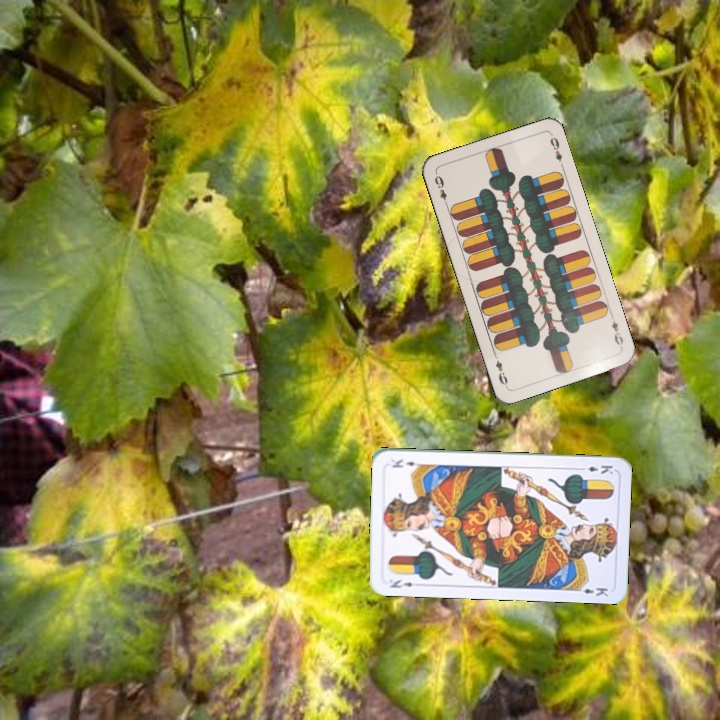E9: (430, 170, 450, 209), (607, 311, 626, 350)
EK: (575, 461, 615, 476), (386, 575, 415, 590)
